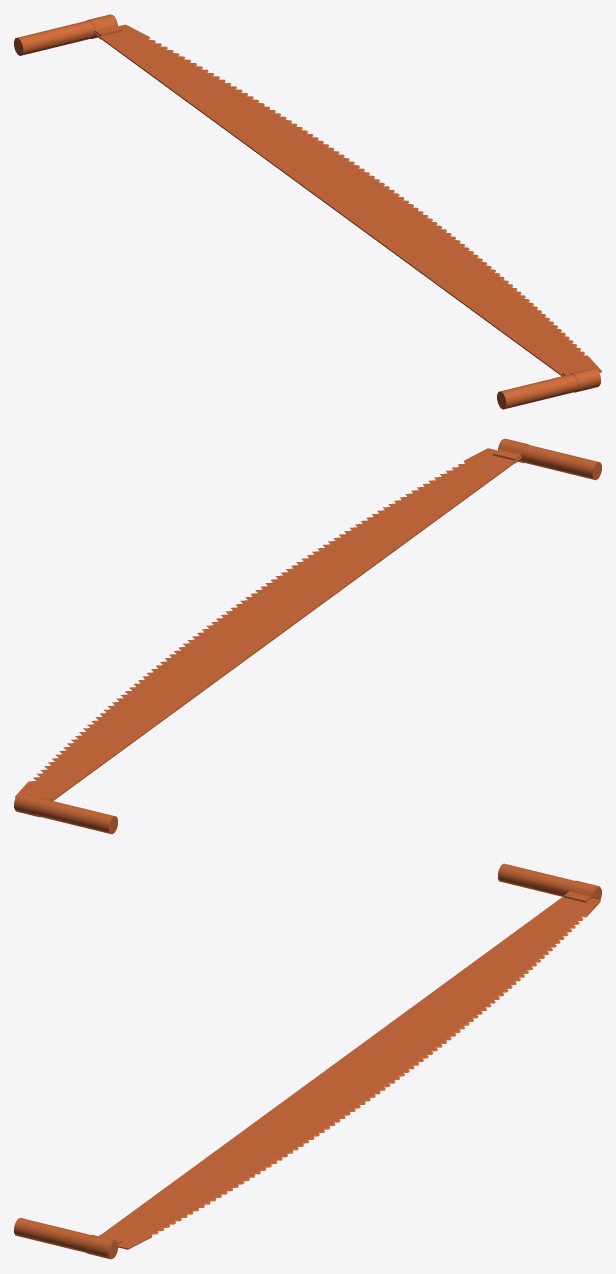
Rendered from Saw_Low.fbx.
3 views of the same model, one above another, from view 1: azimuth 30°, elevation 25°; view 2: azimuth 150°, elevation 25°; view 3: azimuth 330°, elevation 25° (orthographic).
Visible parts, largest first — view 1: Low; view 2: Low; view 3: Low.
Part boxes in pixels (x1,y1,x2,y2): Low: (14,14,601,409); Low: (14,438,601,834); Low: (14,863,601,1259).
Bounding box in the file's own units: 24.55 × 3.07 × 156.
